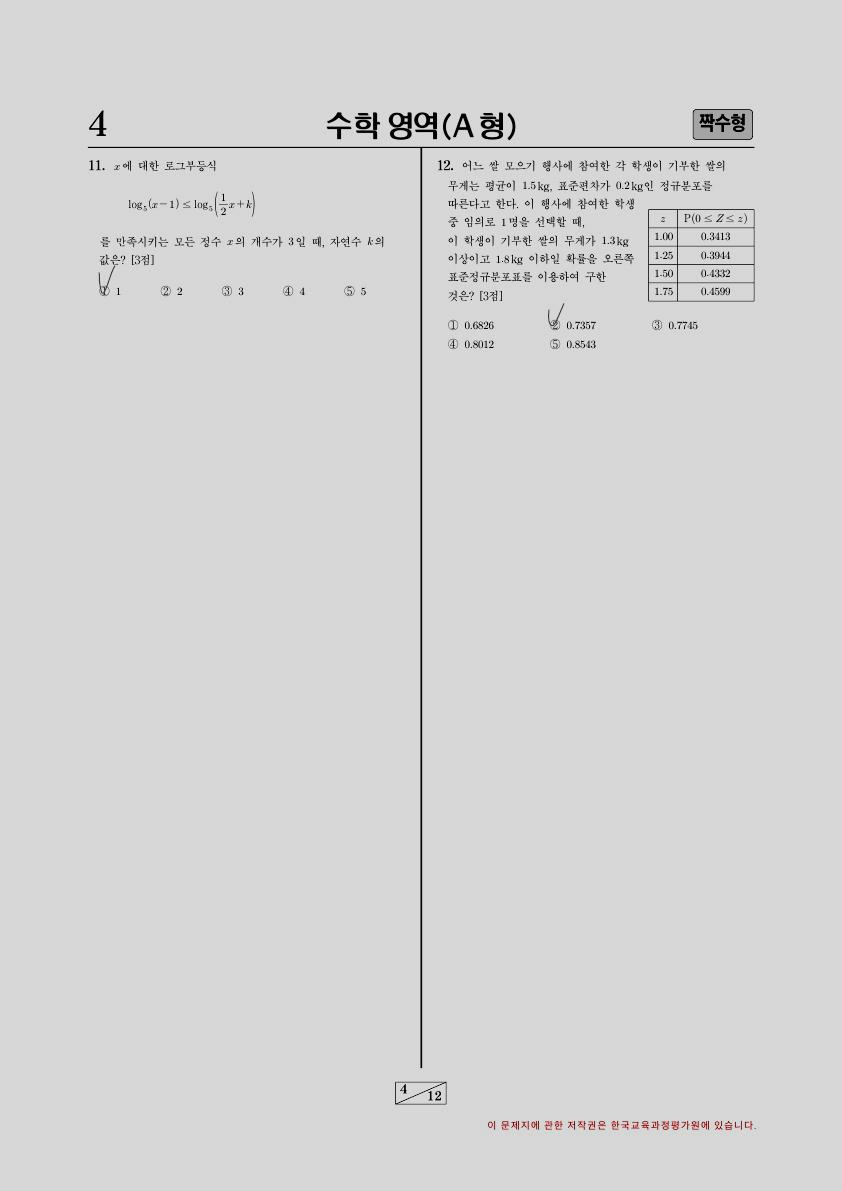question: (425, 151, 768, 367), (77, 151, 402, 313)
